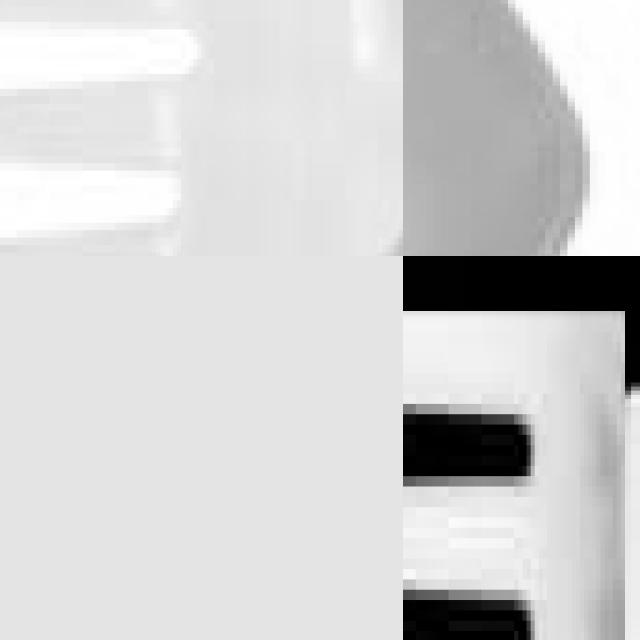forks: (0, 0, 403, 256), (403, 344, 640, 640)
